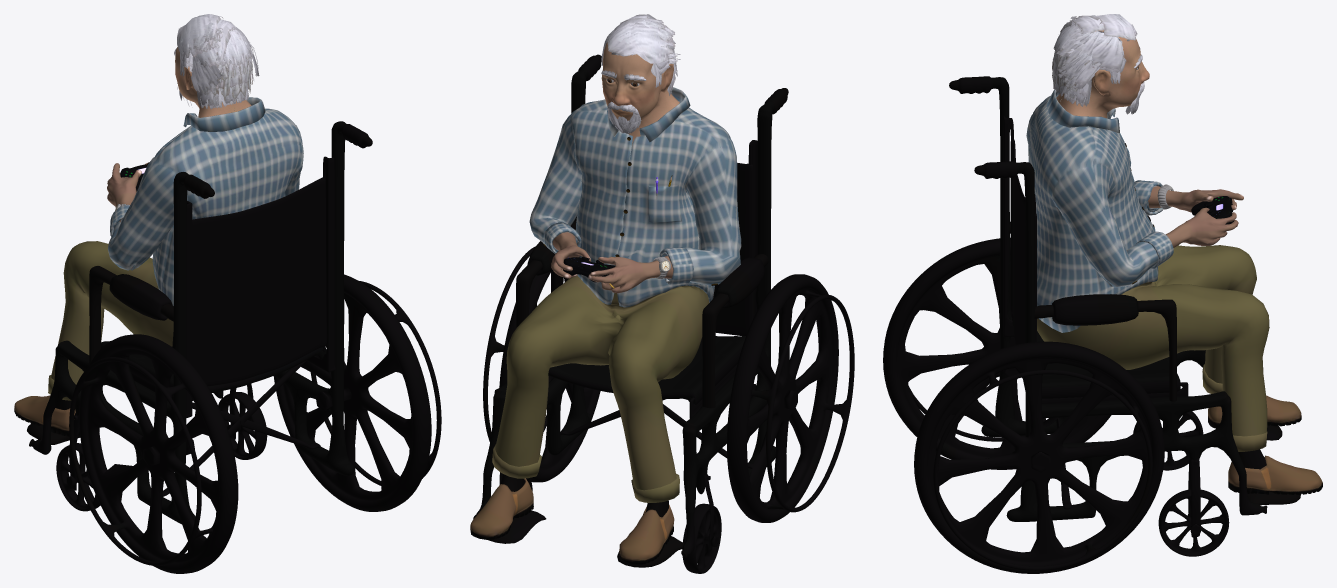
Rendered from wheelchair.glb.
3 renders of one model, left to right at view 1: azimuth 30°, elevation 25°; view 2: azimuth 150°, elevation 25°; view 3: azimuth 270°, elevation 25°, orthographic. The views are drawn at different scales.
Parts seen in each view (by area): view 1: cadeira de rodas, Grandfather; view 2: Grandfather, cadeira de rodas, Comando; view 3: cadeira de rodas, Grandfather, Comando.
Boxes of the visible parts, bbox=[...] form: cadeira de rodas: bbox=[27, 121, 441, 573]; Grandfather: bbox=[14, 14, 303, 436]; Grandfather: bbox=[470, 14, 741, 564]; cadeira de rodas: bbox=[473, 54, 854, 573]; Comando: bbox=[563, 256, 615, 282]; cadeira de rodas: bbox=[883, 76, 1300, 573]; Grandfather: bbox=[1026, 14, 1322, 494]; Comando: bbox=[1191, 196, 1234, 224].
Bounding box in the file's own units: 0.9024 × 1.48 × 1.18.
3 materials, 3 textured.
